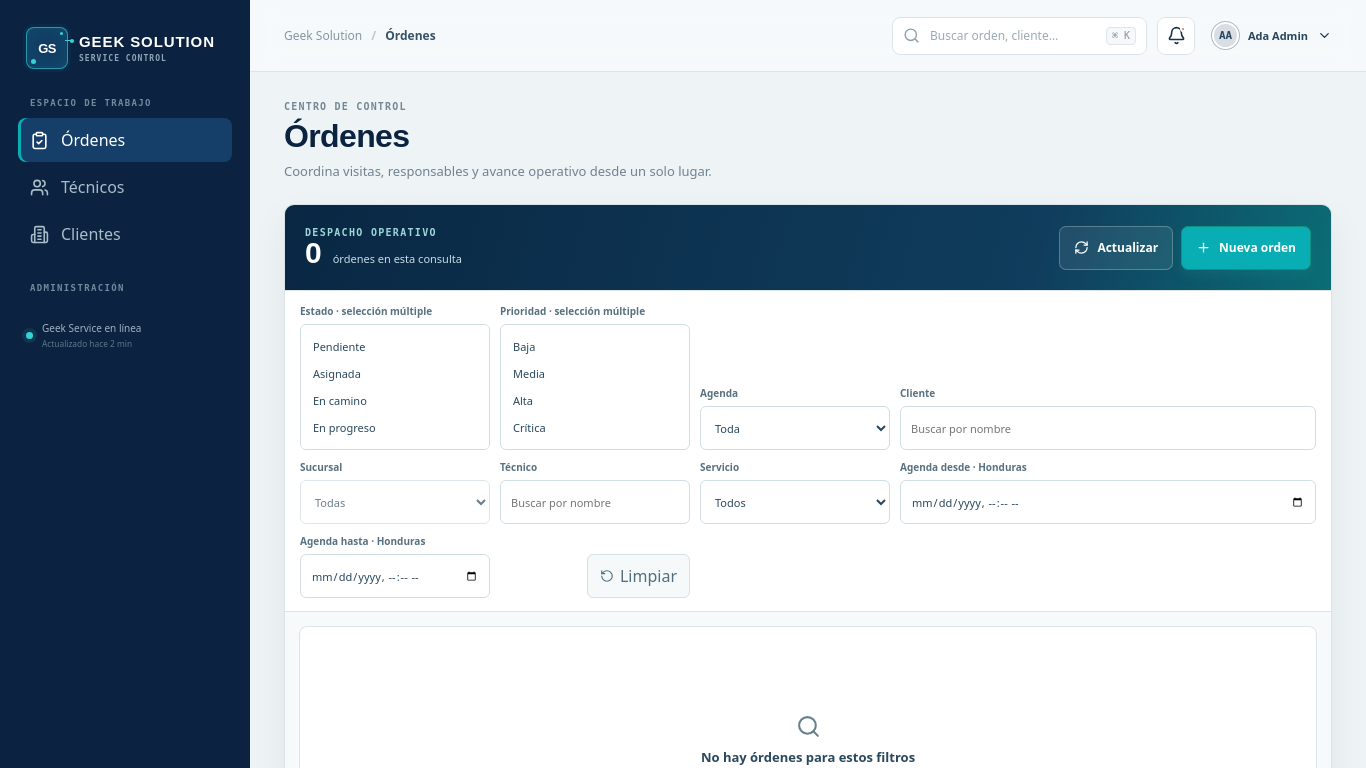
Test case: flujo integrado de órdenes › limpia búsqueda visible, consulta URL y selección conjuntamente
In the field named "Buscar orden, cliente o técnico": (1013, 36) left=928, top=26, right=1098, bottom=45, type "OT"
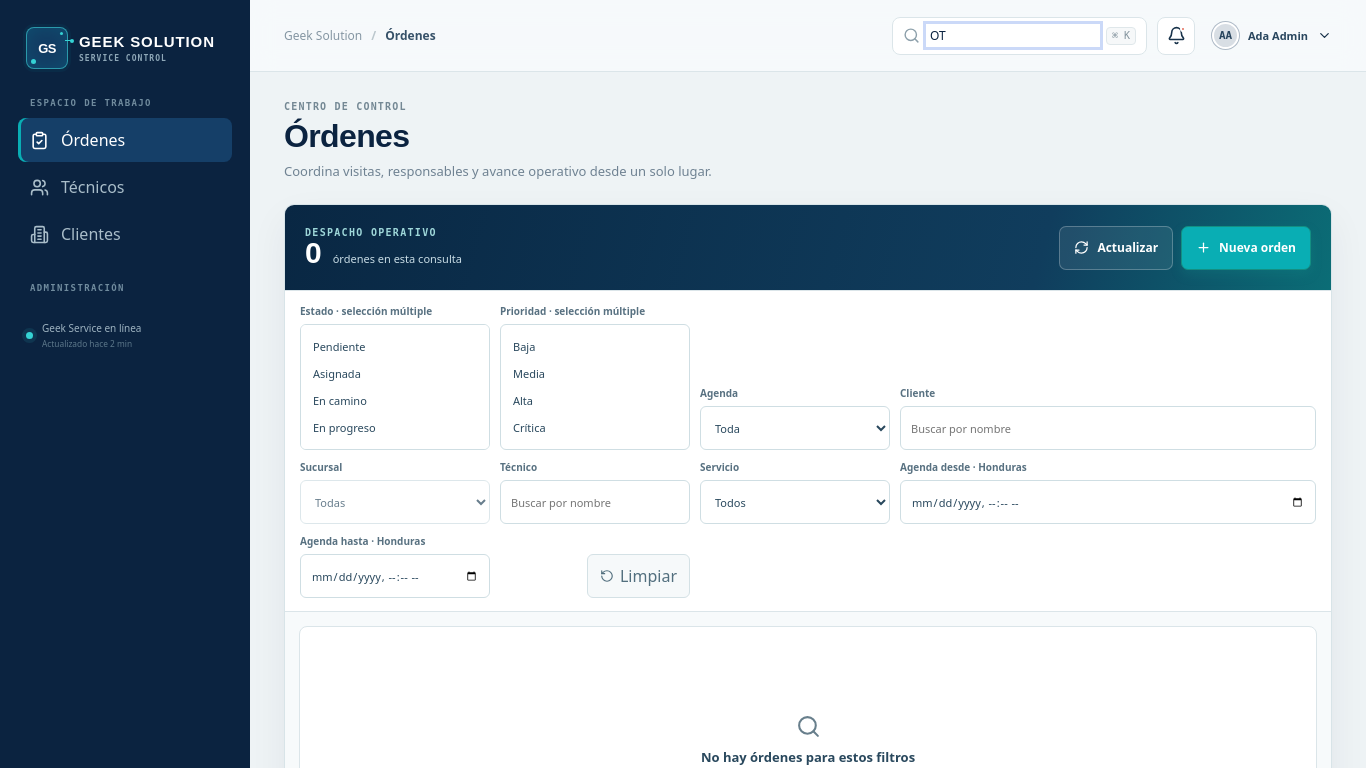
Click the button "Limpiar": (638, 576) left=587, top=554, right=690, bottom=598
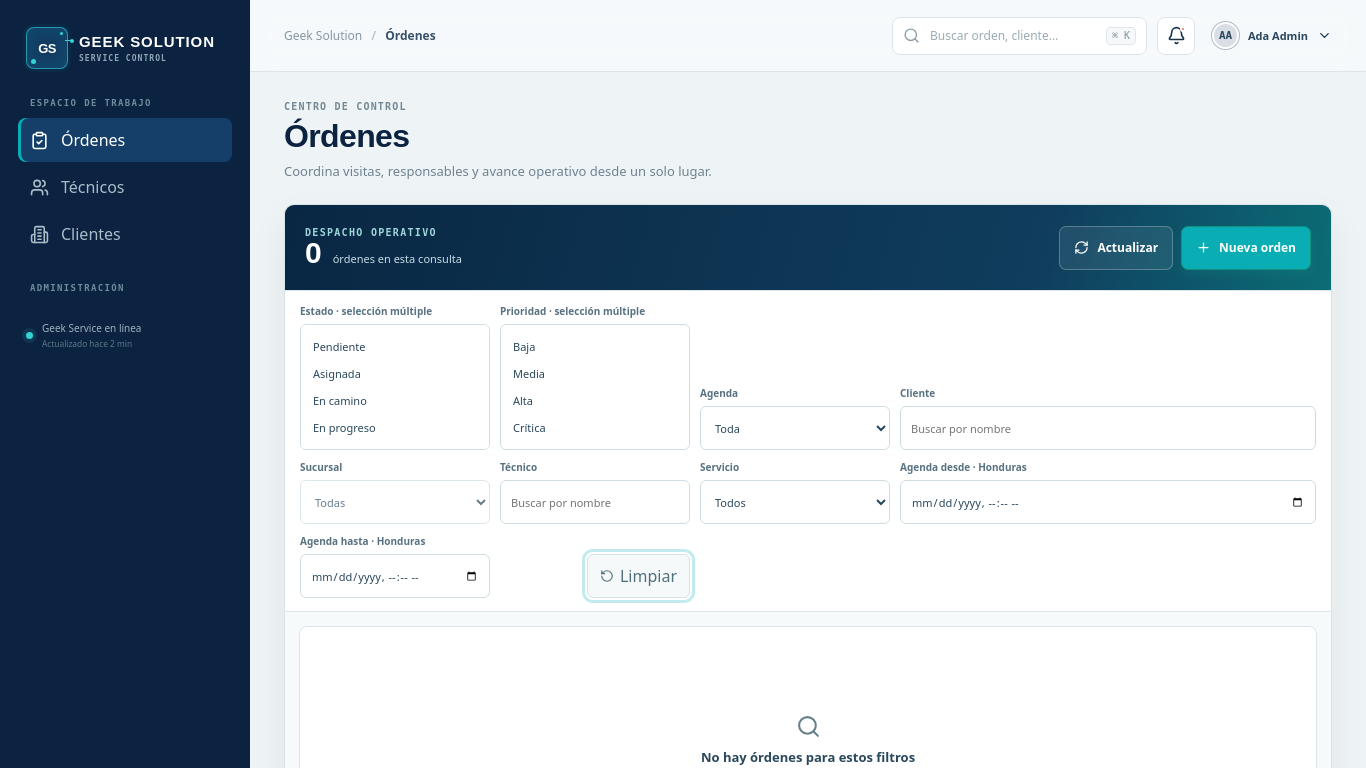
Expected: the field named "Buscar orden, cliente o técnico" is empty, left=928, top=26, right=1098, bottom=45
